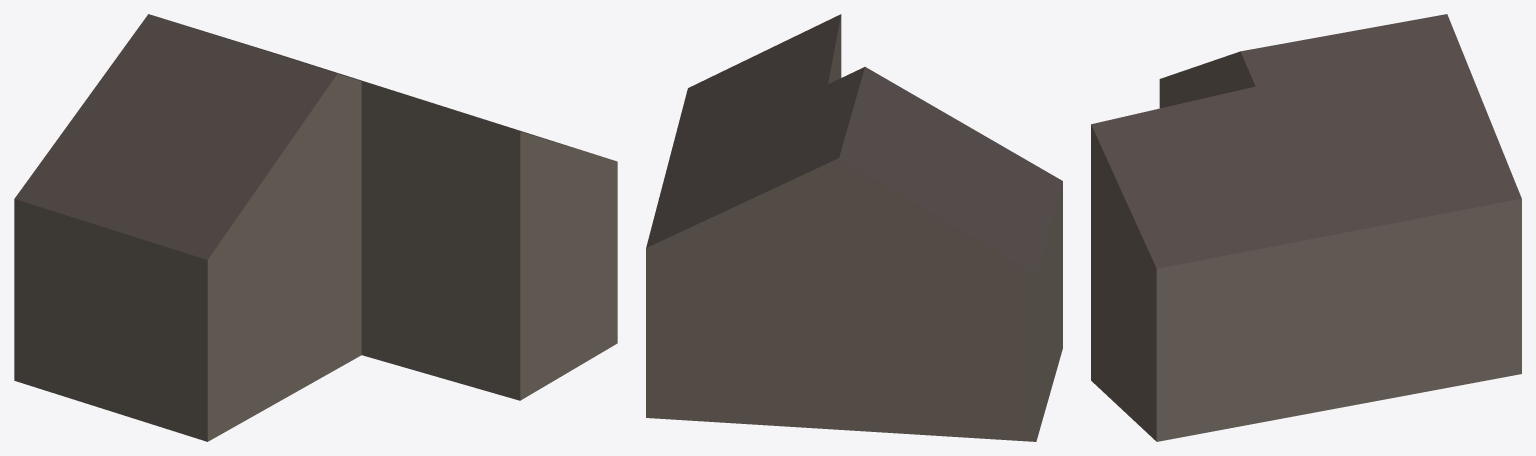
3 renders of one model, left to right at view 1: azimuth 30°, elevation 25°; view 2: azimuth 150°, elevation 25°; view 3: azimuth 270°, elevation 25°, orthographic. The views are drawn at different scales.
Visible parts, largest first — view 1: HP-w734452854; view 2: HP-w734452854; view 3: HP-w734452854.
Boxes of the visible parts, x1=… form: HP-w734452854: x1=14, y1=14, x2=617, y2=441; HP-w734452854: x1=646, y1=14, x2=1062, y2=441; HP-w734452854: x1=1091, y1=14, x2=1521, y2=441.
Bounding box in the file's own units: 16.94 × 9.73 × 13.53.
